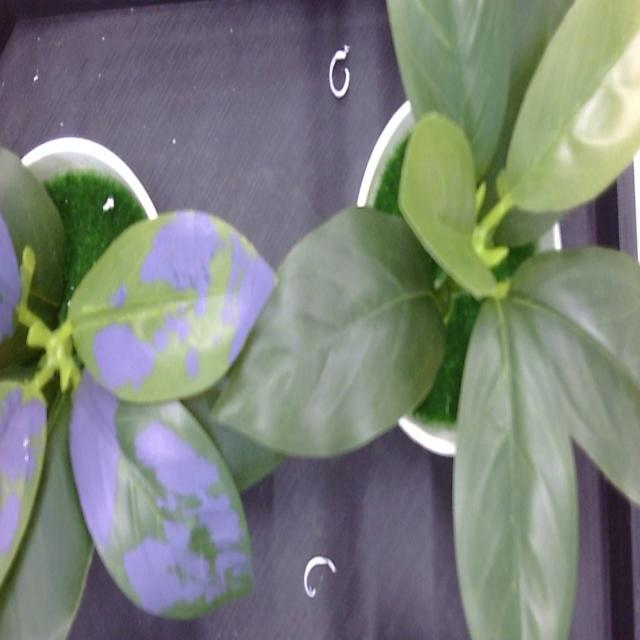Green: (454, 247, 640, 639), (208, 208, 445, 457), (388, 0, 568, 176), (500, 0, 640, 212), (0, 404, 93, 639), (398, 113, 502, 298), (0, 146, 65, 322), (0, 340, 28, 360)
Purple: (69, 377, 251, 618), (68, 211, 274, 402), (0, 380, 48, 587), (0, 210, 20, 340)
